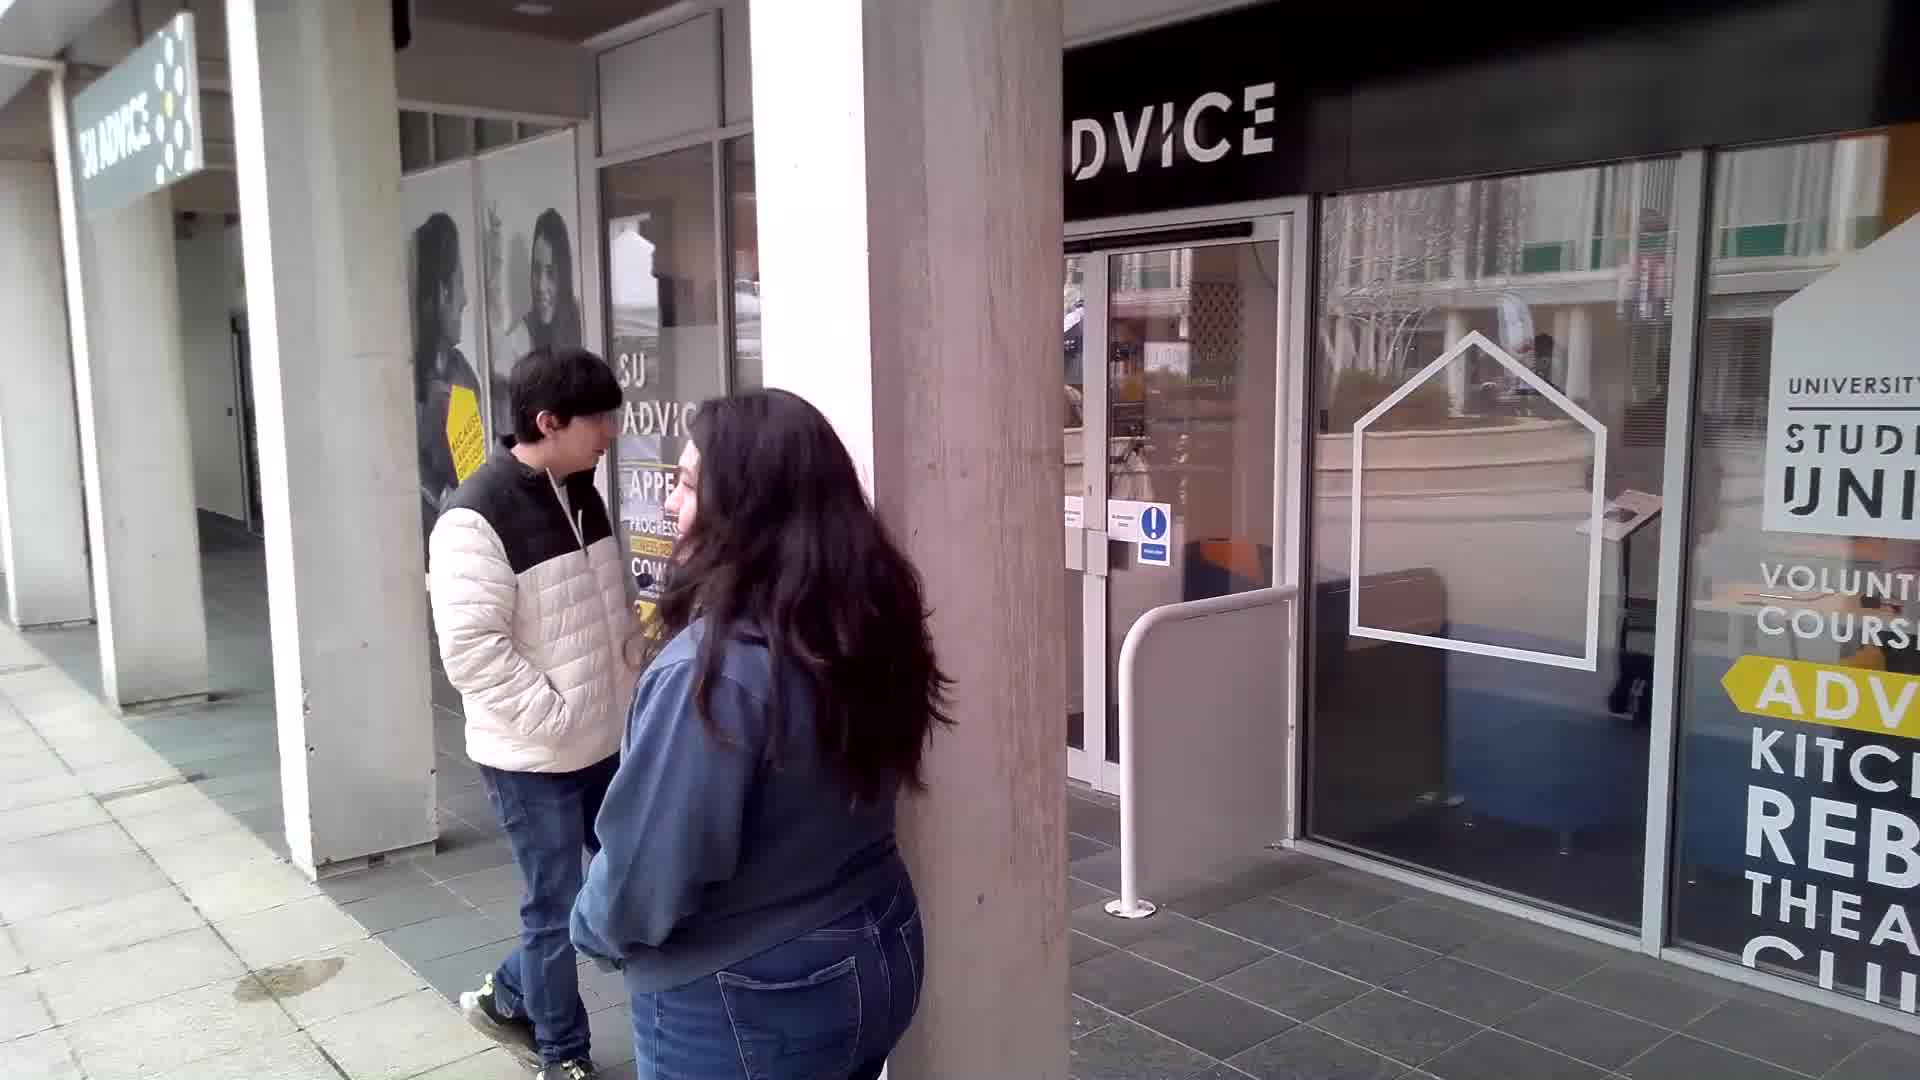Person: (642, 417, 945, 1080), (465, 357, 652, 1080)
